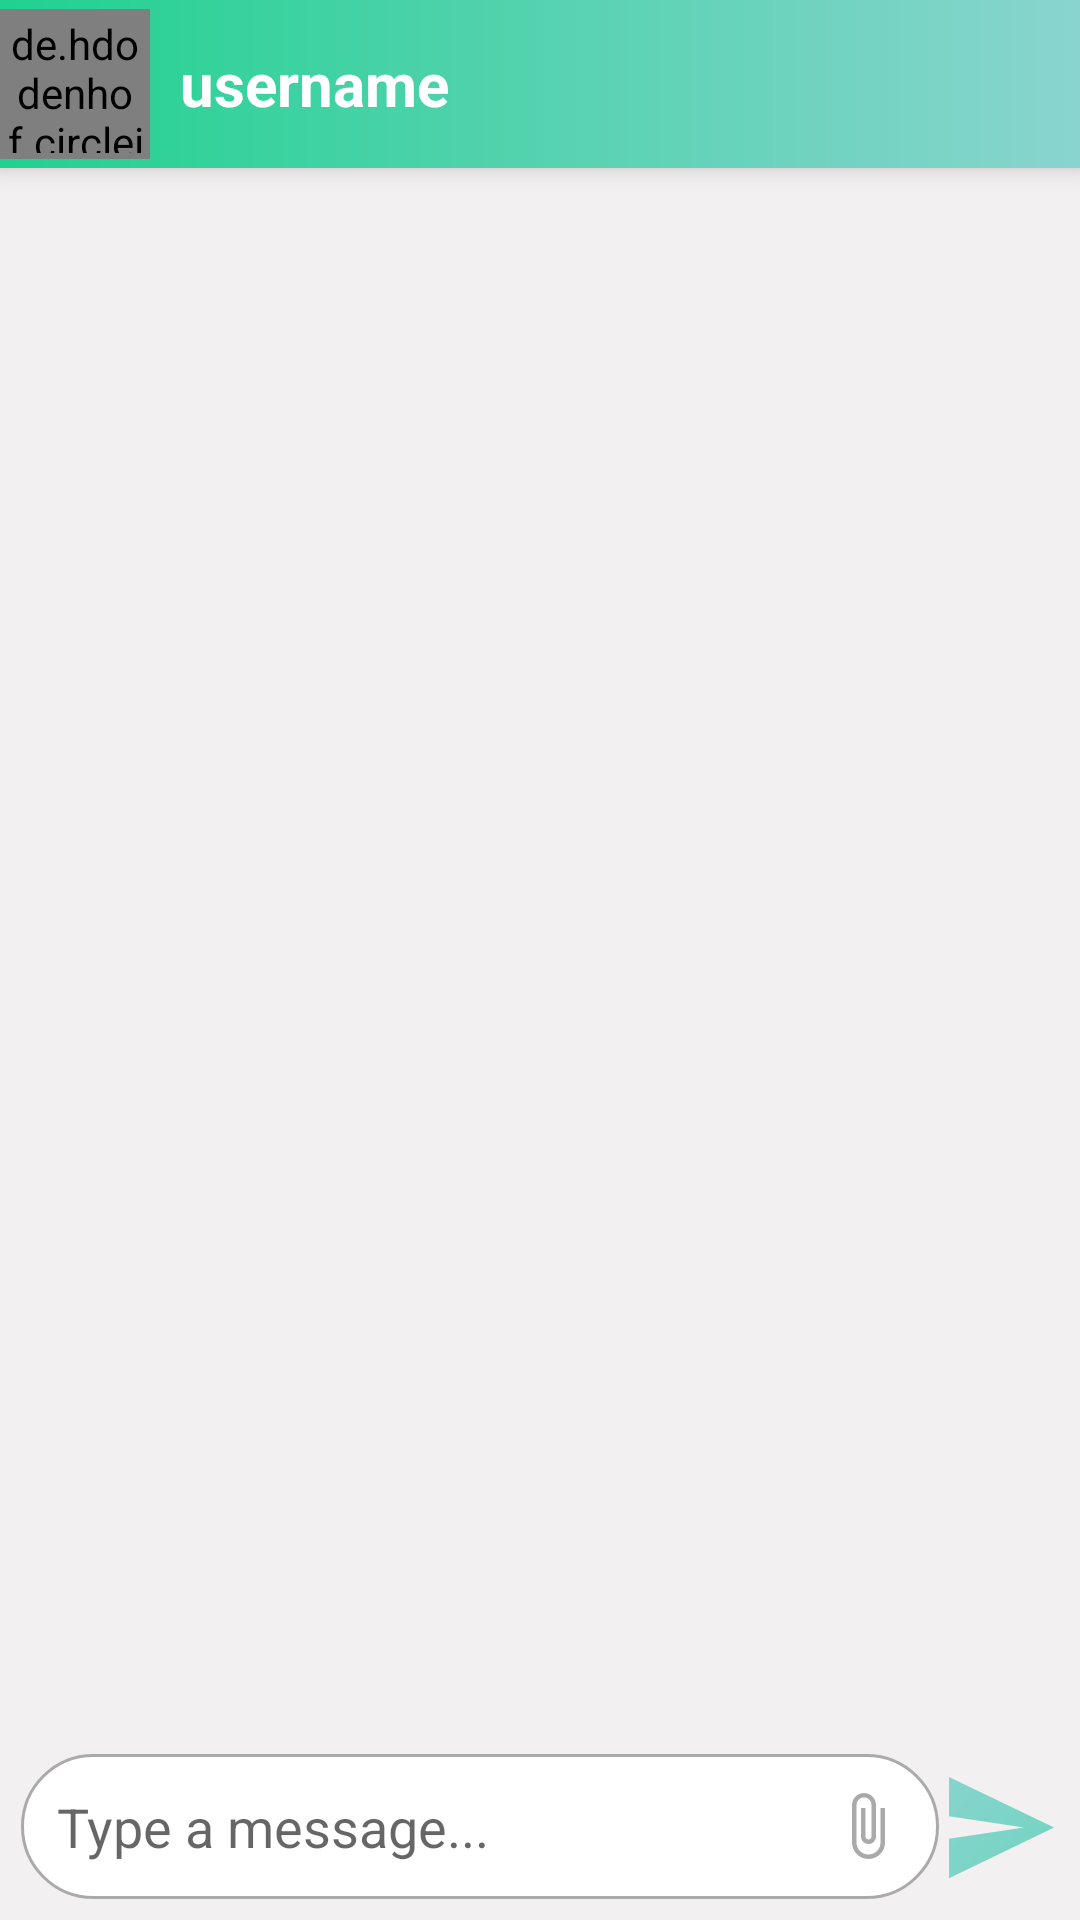

Screen size 1080 × 1920. Icon name, then its center in pixels as [x,y]:
send: [1001,1827]
